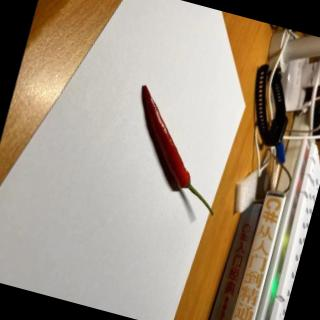Cabai Merah: (116, 85, 241, 216)
